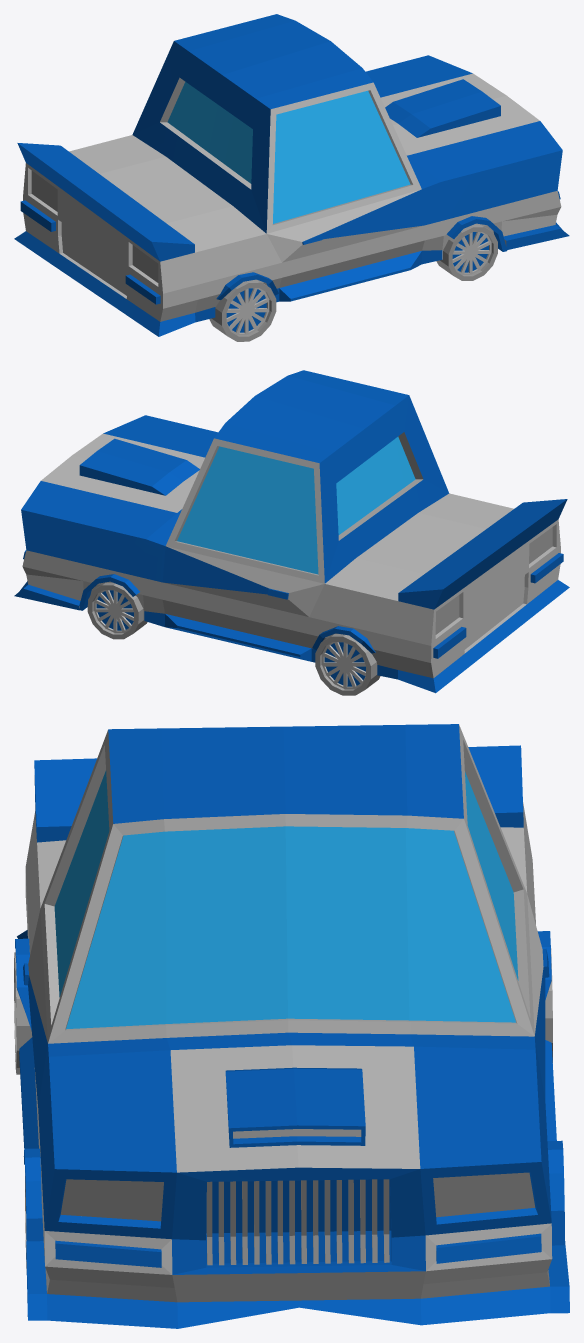
File: car2_1.obj
3 views of the same model, one above another, from view 1: azimuth 30°, elevation 25°; view 2: azimuth 150°, elevation 25°; view 3: azimuth 270°, elevation 25° (orthographic). The views are drawn at different scales.
Visible parts, largest first — view 1: body_ID56.001; view 2: body_ID56.001; view 3: body_ID56.001.
Boxes of the visible parts, box(x1,y1,x2,y2) form: body_ID56.001: box(14, 14, 569, 341); body_ID56.001: box(14, 370, 569, 695); body_ID56.001: box(14, 724, 569, 1328).
Size of the model in its own units: 0.3331 by 0.1553 by 0.1976.
2 materials, 1 textured.
